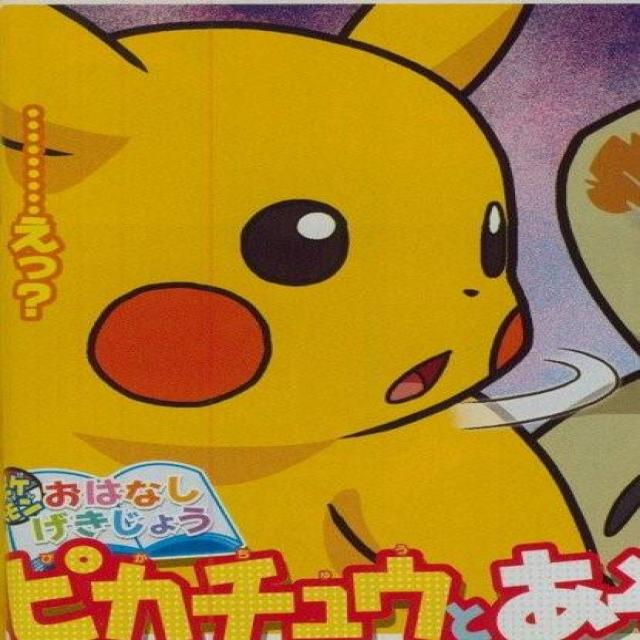pikachu: (5, 9, 603, 592)
